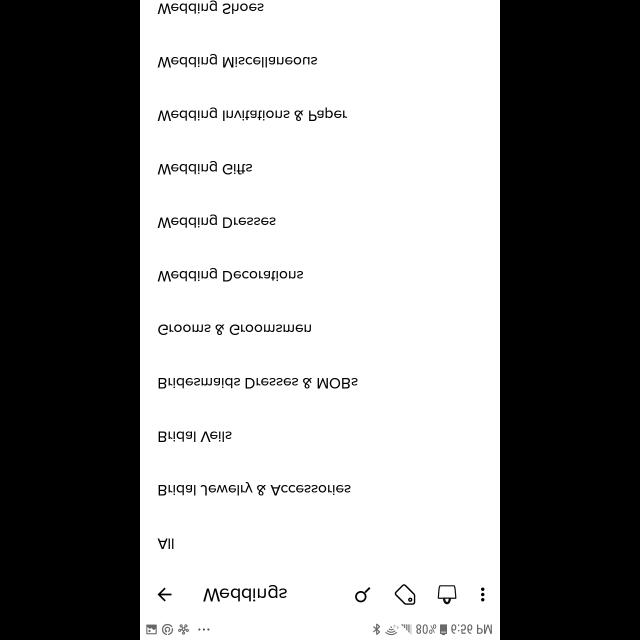icon: (394, 584, 416, 604), (438, 584, 457, 604), (355, 586, 371, 602), (158, 587, 172, 601), (481, 586, 485, 602)
text: (159, 481, 351, 495), (157, 107, 347, 121), (158, 54, 318, 68), (157, 267, 303, 281), (158, 378, 358, 388), (158, 324, 312, 336), (158, 214, 276, 228), (203, 584, 287, 602), (158, 0, 264, 14), (158, 161, 252, 175), (160, 431, 232, 442), (158, 538, 174, 548)
uppertaskbar: (140, 622, 500, 640)
